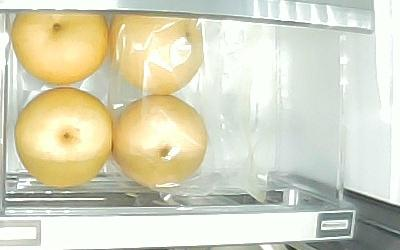pear: (14, 87, 113, 186), (11, 11, 109, 85)
pear_vinyl: (112, 94, 209, 186), (109, 12, 205, 95)
